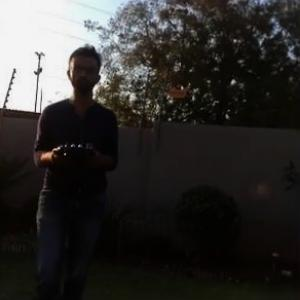follow: (27, 39, 121, 299)
